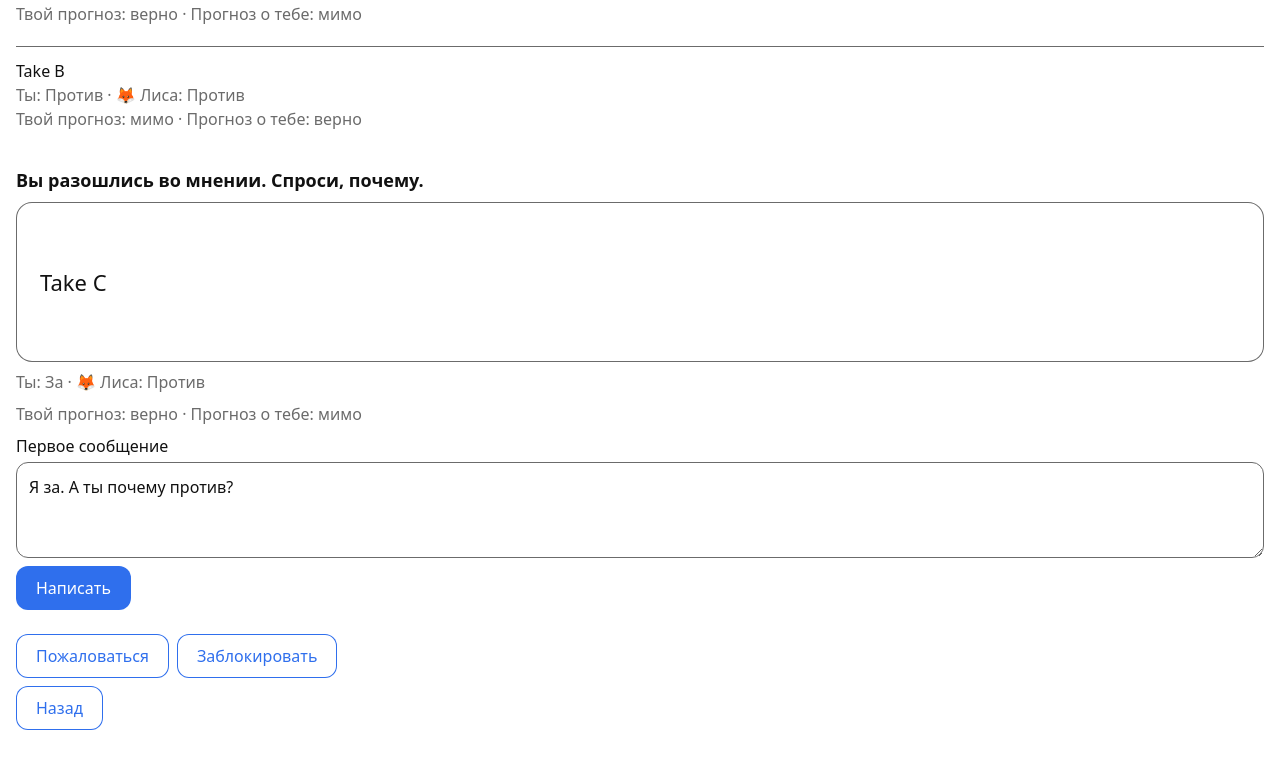
it: <Match> results › sends the edited opener as the first message, once, and then points to the bot chat
Later steps or results of the test are not shown.
(page scrolled)
Replace the text in the text box labelled "Первое сообщение" with "Привет! Почему против?" at {"x": 640, "y": 510}, box [16, 462, 1264, 558]
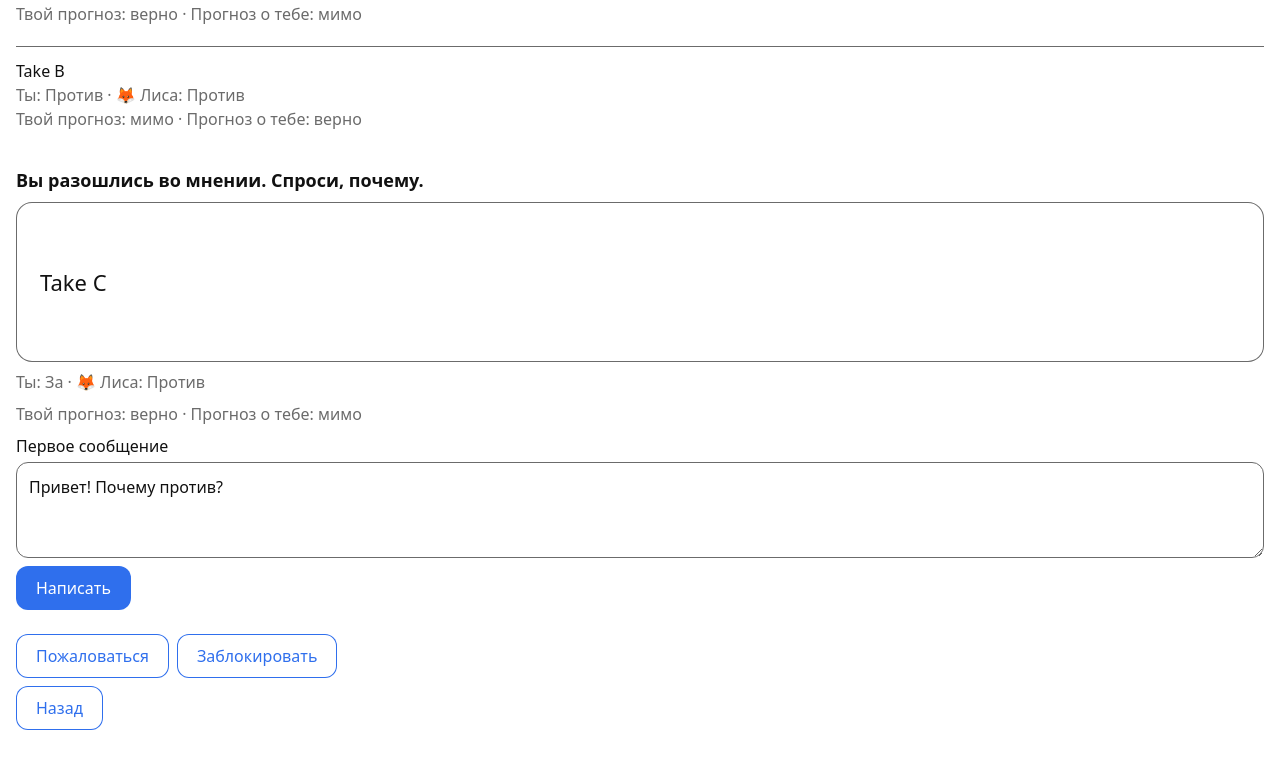
Click the button "Написать" at {"x": 73, "y": 588}, box [16, 566, 131, 610]
(page scrolled)
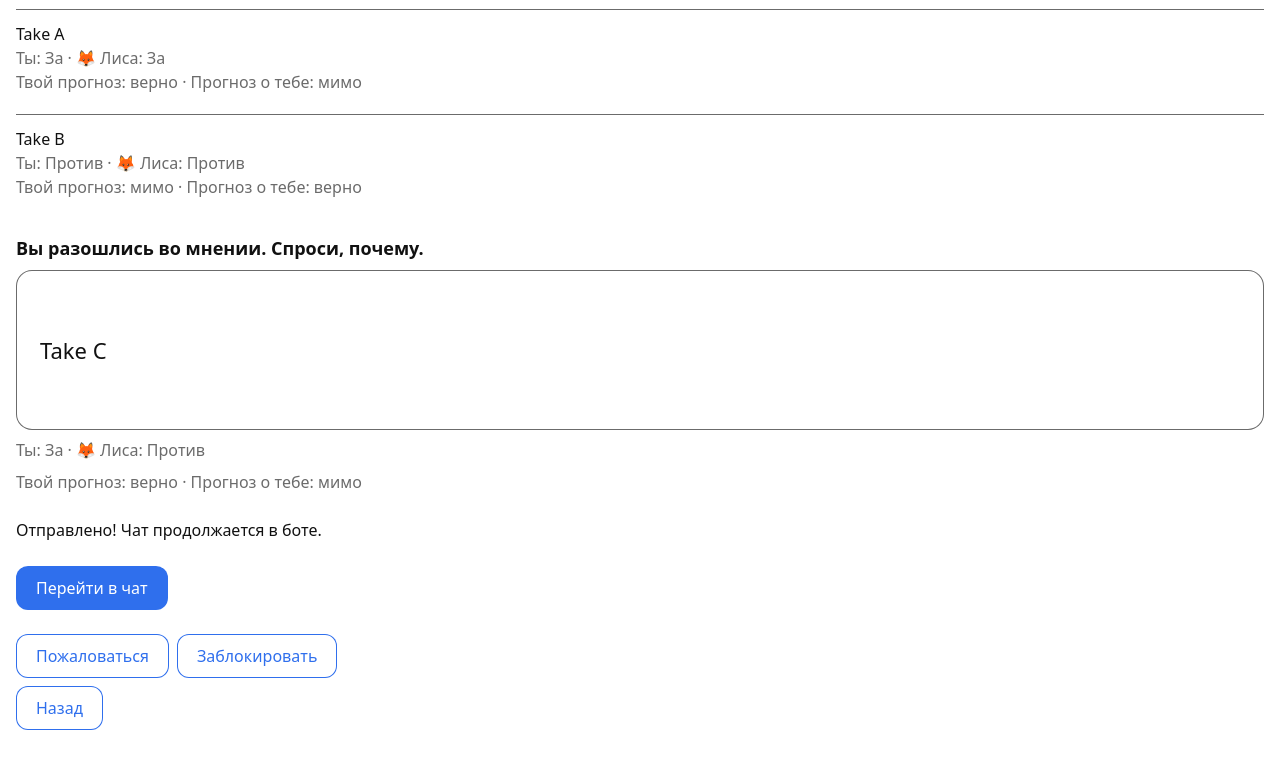
Expected: the text "Отправлено! Чат продолжается в боте." is shown, [16, 519, 322, 541]
Expected: the label labelled "Первое сообщение" is gone
Expected: the button "Написать" is gone
